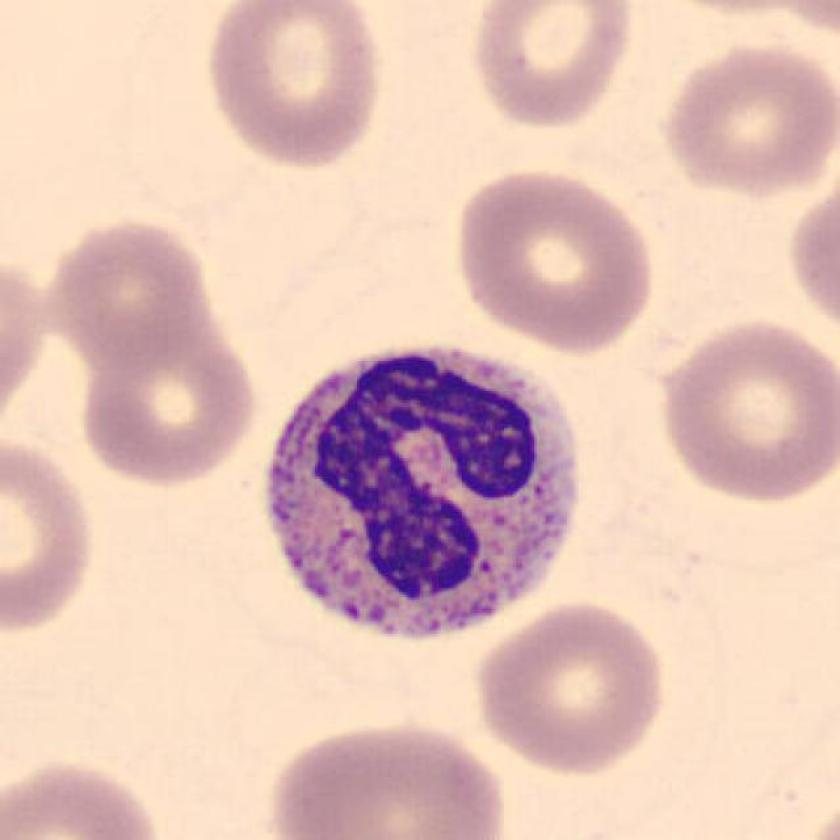neutrophil: (269, 344, 576, 638)
